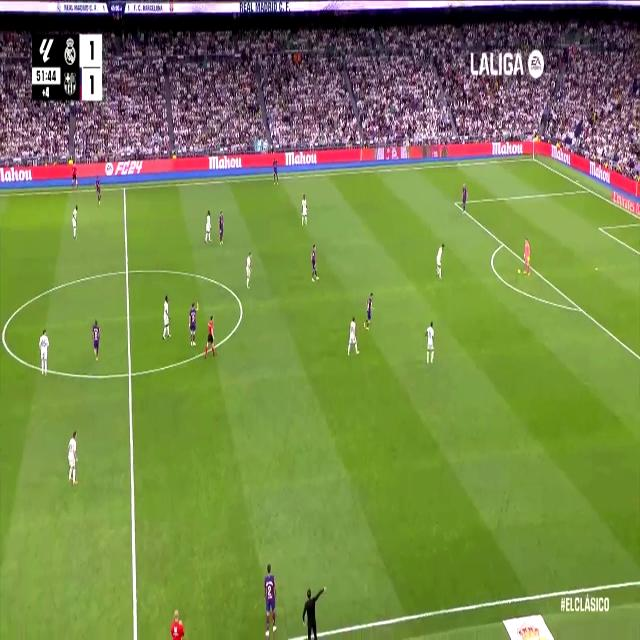bigarea_top_inner: (452, 194, 459, 210)
bottom_arc_area_intersection: (576, 300, 584, 316)
corner: (529, 152, 537, 163)
halfcircle_bottom: (125, 361, 135, 386)
halfcircle_top: (122, 260, 132, 281)
midline_top_intersection: (121, 181, 128, 195)
smallarea_top_inner: (596, 221, 603, 233)
top_arc_area_intersection: (500, 236, 506, 249)
